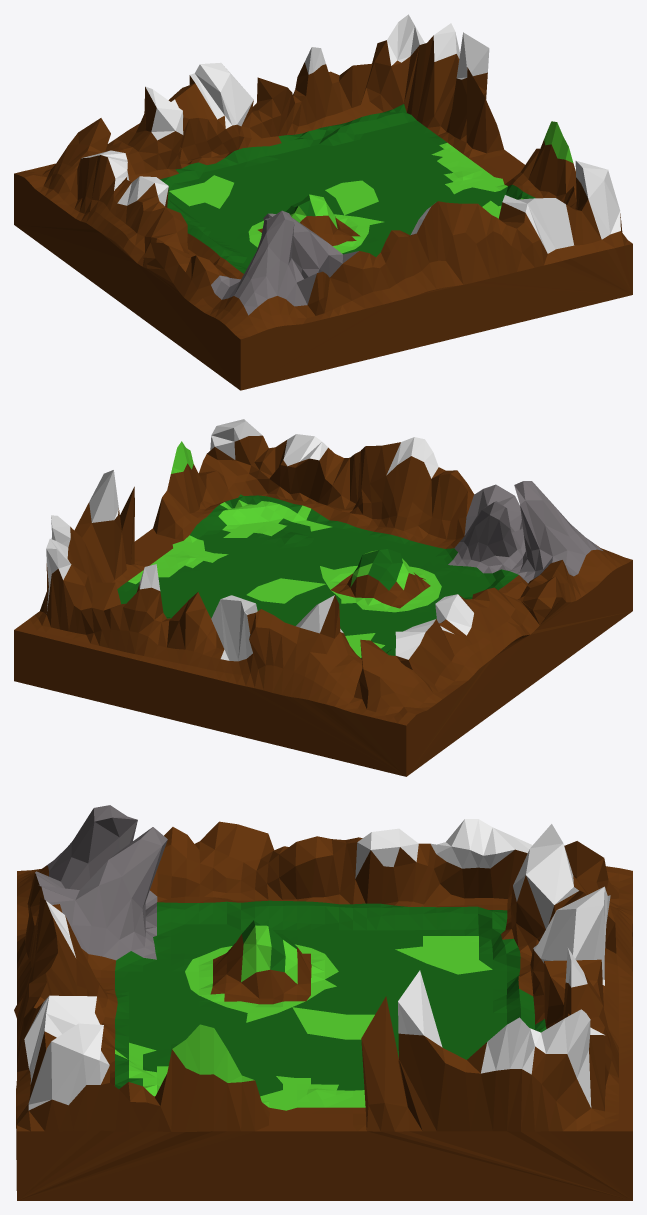
File: Felantor_Forest.fbx
The picture shows the model from 3 angles, top to bottom: view 1: azimuth 30°, elevation 25°; view 2: azimuth 150°, elevation 25°; view 3: azimuth 270°, elevation 25°; orthographic projection. The views are drawn at different scales.
Visible parts, largest first — view 1: Level; view 2: Level; view 3: Level.
Part boxes in pixels (left/top/right/bottom): Level: left=14, top=14, right=632, bottom=390; Level: left=14, top=419, right=632, bottom=776; Level: left=14, top=805, right=632, bottom=1200.
Size of the model in its own units: 11407 by 4272 by 11058.
